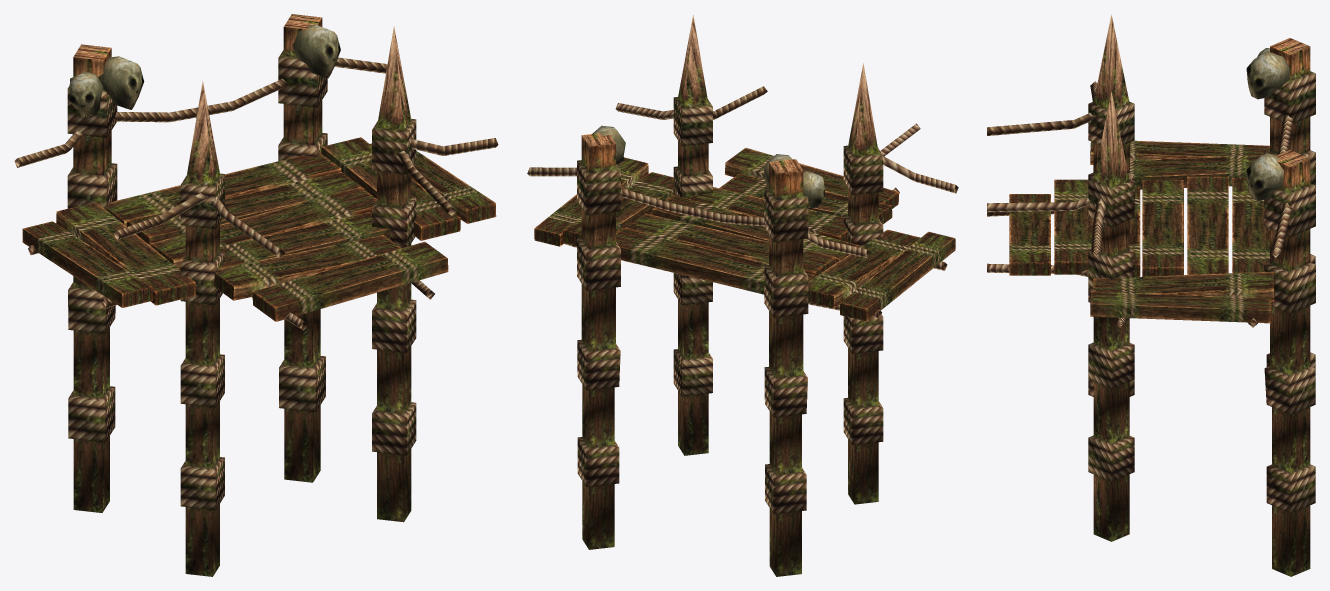
The model's file is StoneRoad04.FBX.
3 views of the same model, side by side, from view 1: azimuth 30°, elevation 25°; view 2: azimuth 150°, elevation 25°; view 3: azimuth 270°, elevation 25° (orthographic). The views are drawn at different scales.
Parts seen in each view (by area): view 1: StoneRoad04; view 2: StoneRoad04; view 3: StoneRoad04.
Part boxes in pixels (x1,y1,x2,y2): StoneRoad04: [14, 14, 498, 576]; StoneRoad04: [527, 15, 958, 576]; StoneRoad04: [987, 14, 1315, 576].
Bounding box in the file's own units: 500 × 659 × 414.
